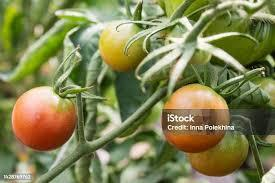Masak: (162, 82, 230, 154)
Mengkal: (8, 83, 79, 149), (185, 126, 247, 177), (93, 18, 150, 69)
